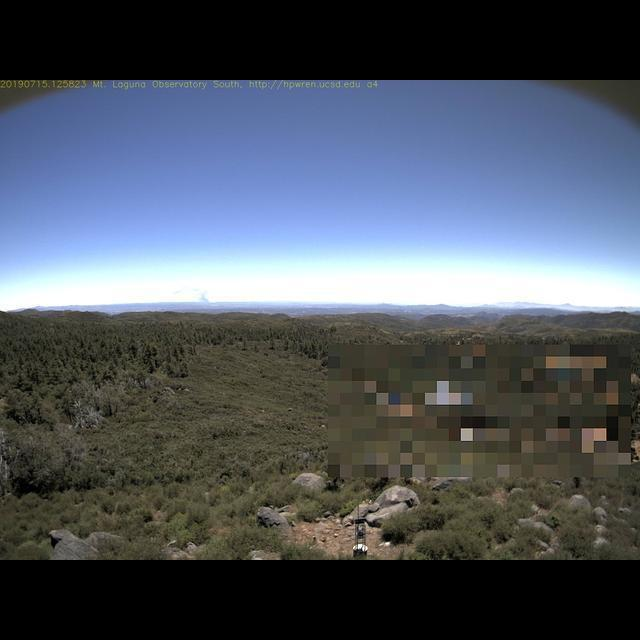Smoke: (193, 291, 213, 305)
